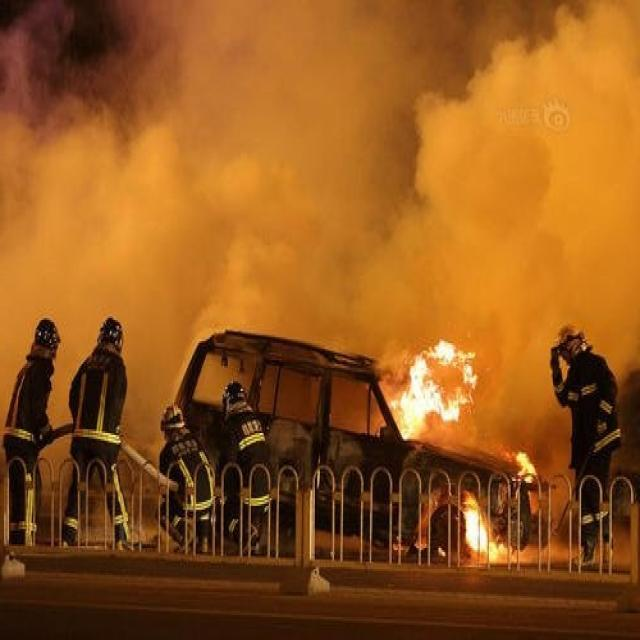fire: (381, 340, 534, 476), (459, 479, 516, 565)
smoke: (0, 0, 639, 470)
